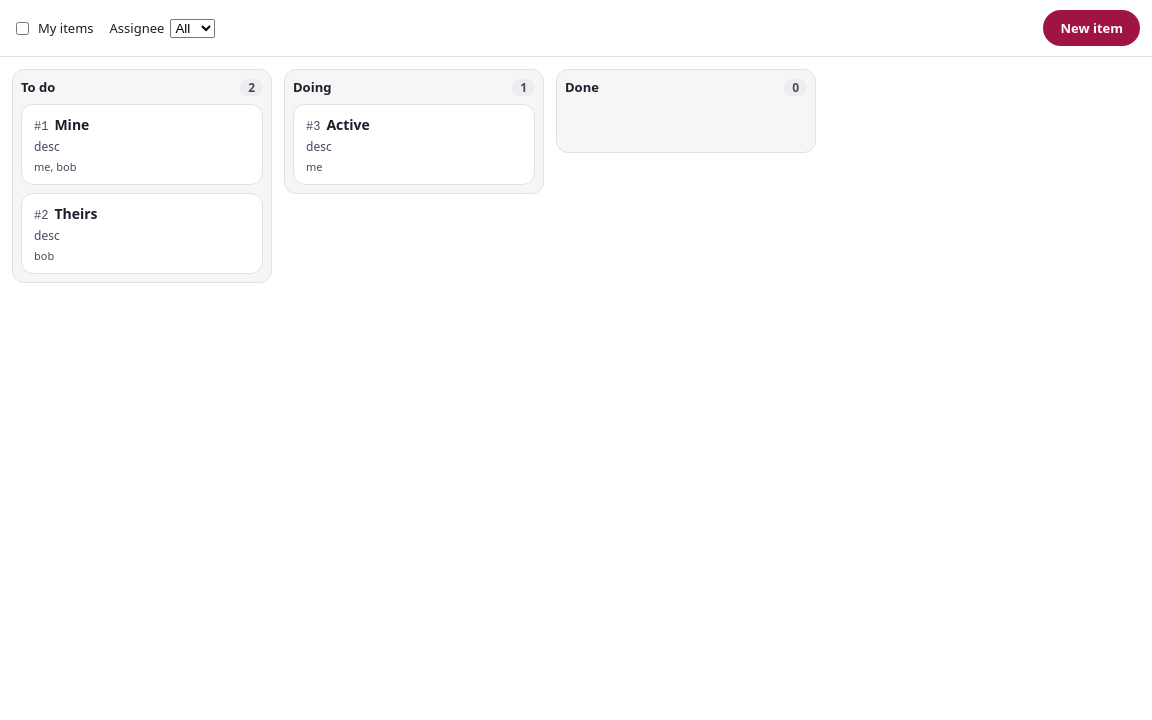
Test: BoardView create and edit › New item opens the dialog; saving creates the item, which then appears in its lane
Click the button "New item": (1092, 28) [1043,10,1140,46]
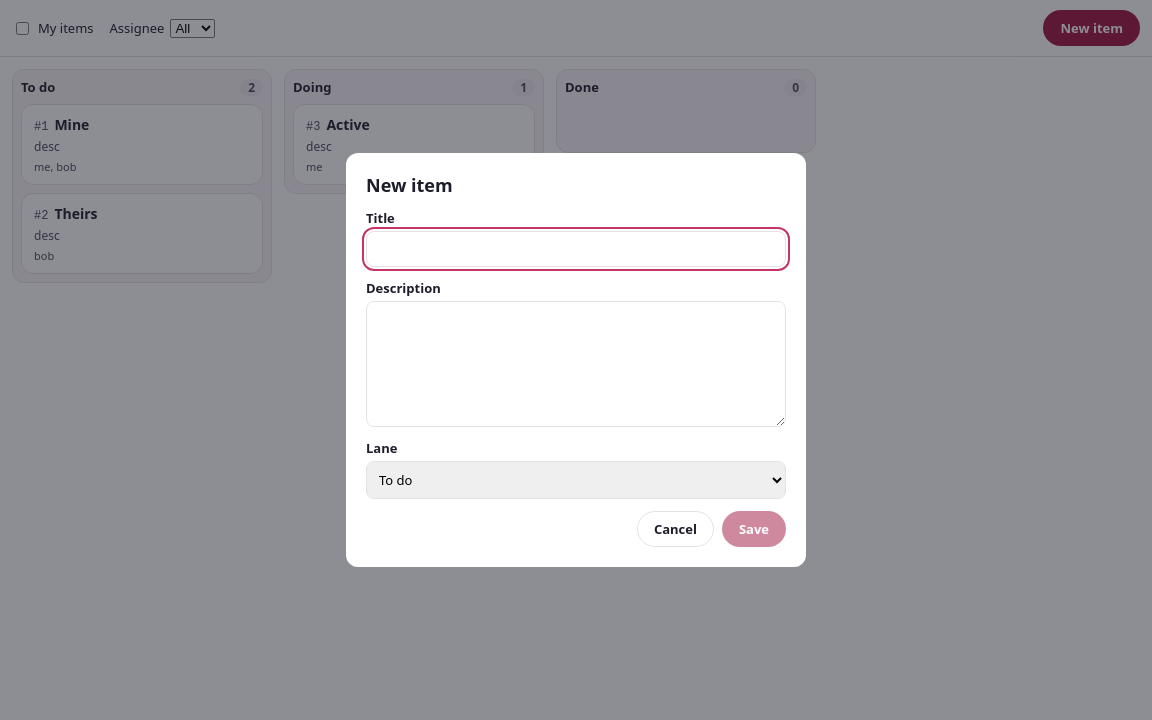
In the field labelled "Title": (576, 249) [366,231,786,267], type "Brand new"
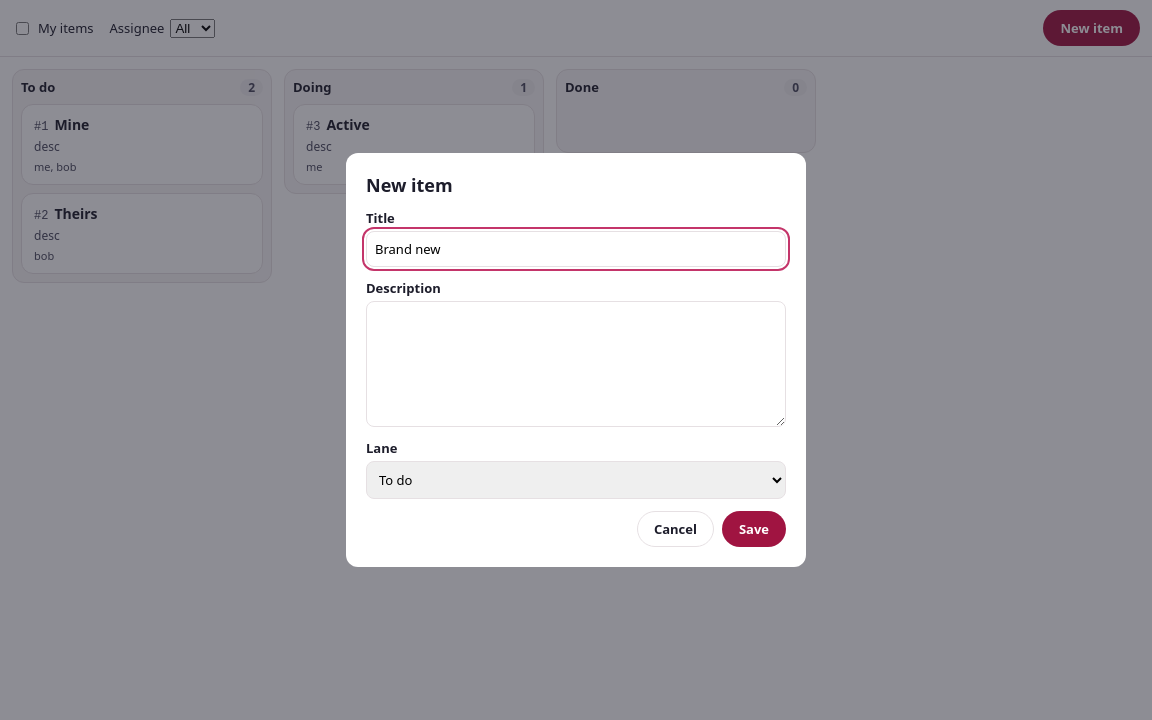
Select "Doing" in the dropdown labelled "Lane": (576, 480) [366,461,786,499]
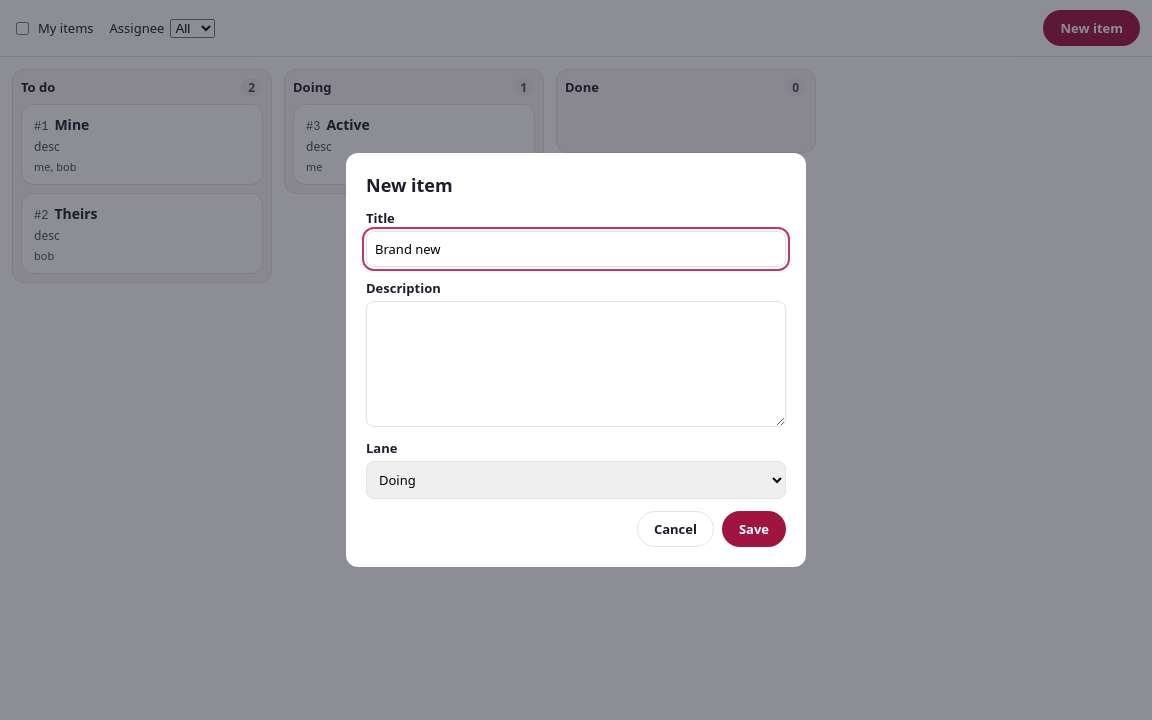
Click the button "Save": (754, 529) [722,511,786,547]
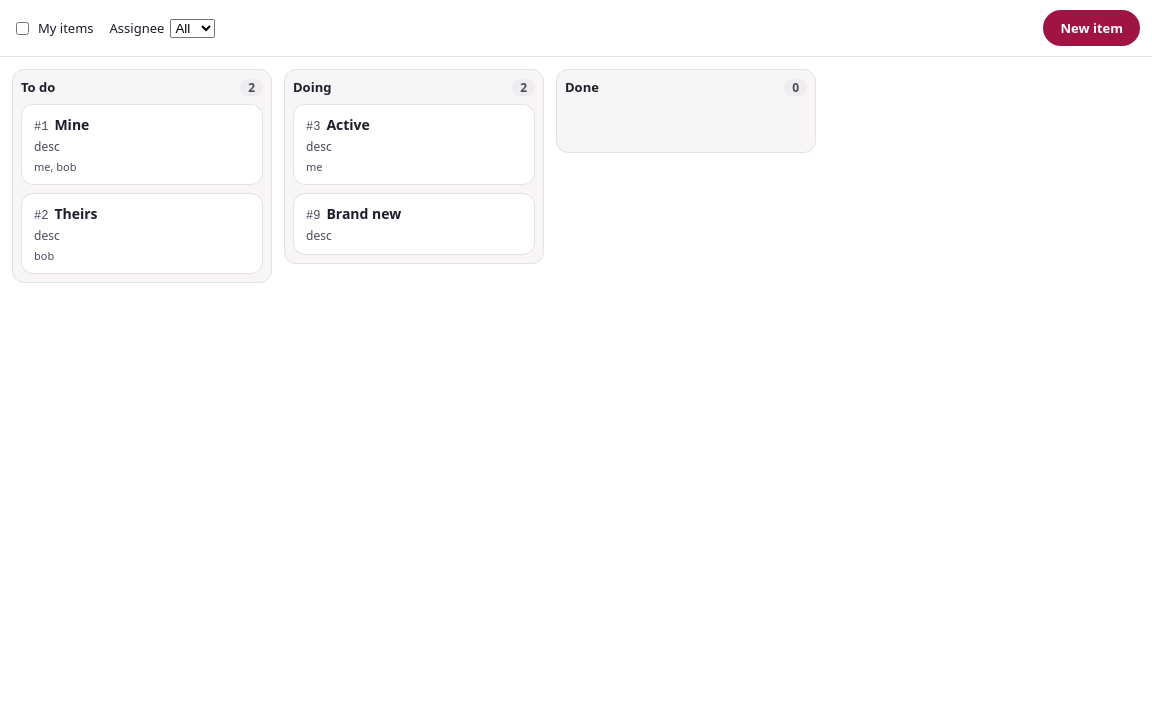
Expected: the dialog is gone
Expected: the text "Brand new" is shown, [326,204,401,223]
